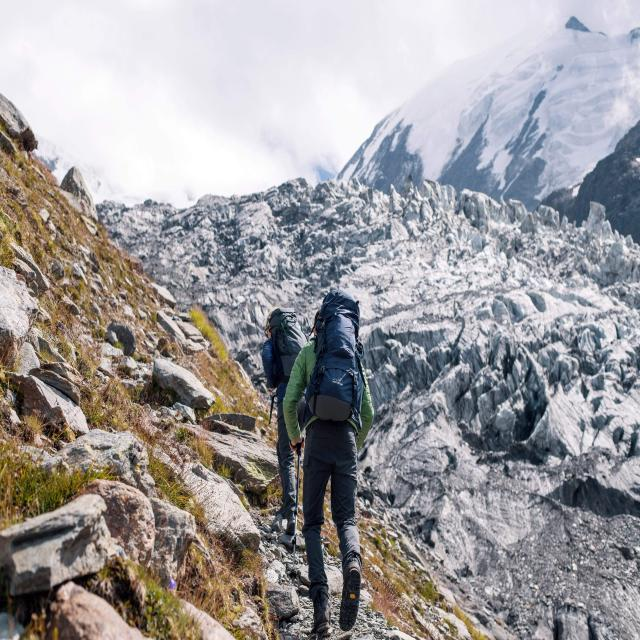backpack: (306, 291, 365, 430), (267, 309, 310, 385)
